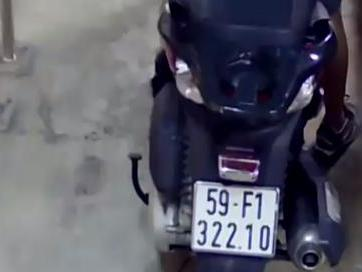num_plate: (191, 179, 281, 259)
